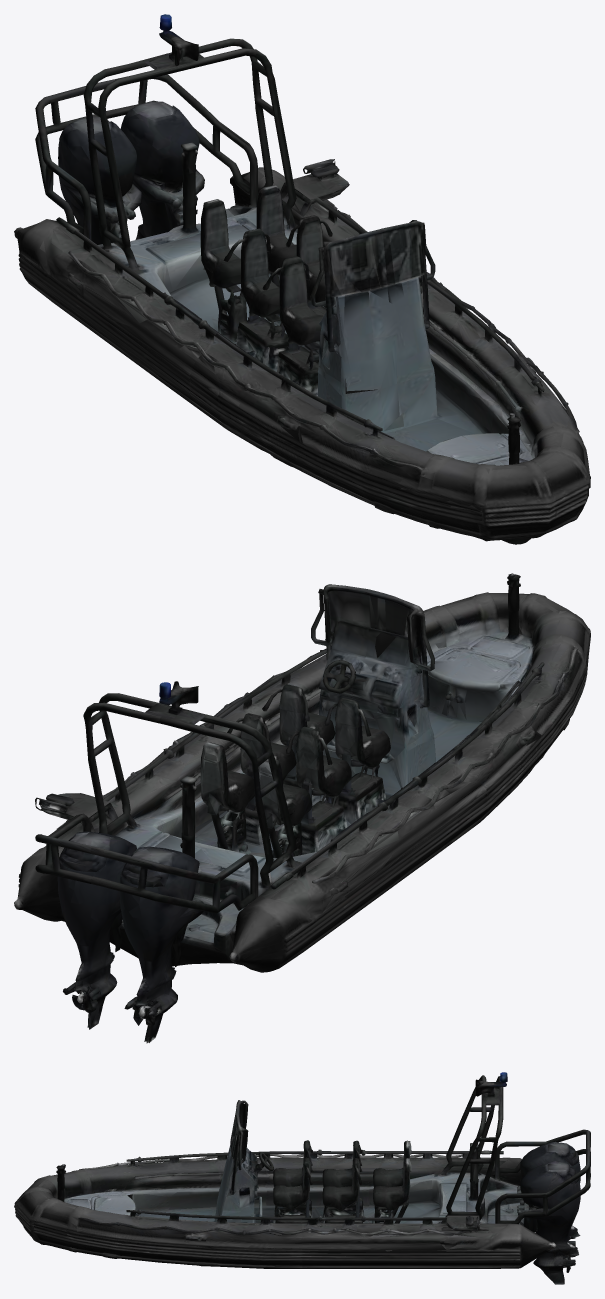
Rendered from PatrolRhibScan.glb.
3 views of the same model, one above another, from view 1: azimuth 30°, elevation 25°; view 2: azimuth 150°, elevation 25°; view 3: azimuth 270°, elevation 25° (orthographic). The views are drawn at different scales.
Visible parts, largest first — view 1: Patrol-Rhib-Scan_01, Patrol-Rhib-Scan_00, Patrol-Rhib-Scan_10, Patrol-Rhib-Scan_11; view 2: Patrol-Rhib-Scan_01, Patrol-Rhib-Scan_00, Patrol-Rhib-Scan_11, Patrol-Rhib-Scan_10; view 3: Patrol-Rhib-Scan_11, Patrol-Rhib-Scan_10, Patrol-Rhib-Scan_01, Patrol-Rhib-Scan_00.
Boxes of the visible parts, x1,y1,x2,y2 form: Patrol-Rhib-Scan_01: (14,14,309,407); Patrol-Rhib-Scan_00: (189,229,555,544); Patrol-Rhib-Scan_10: (381,220,590,532); Patrol-Rhib-Scan_11: (106,38,446,353); Patrol-Rhib-Scan_01: (90,682,458,1043); Patrol-Rhib-Scan_00: (328,573,590,843); Patrol-Rhib-Scan_11: (14,681,309,1029); Patrol-Rhib-Scan_10: (202,584,528,805); Patrol-Rhib-Scan_11: (302,1085,590,1284); Patrol-Rhib-Scan_10: (16,1114,302,1268); Patrol-Rhib-Scan_01: (302,1072,590,1246); Patrol-Rhib-Scan_00: (14,1100,302,1227).
Size of the model in its own units: 10.92 by 11.57 by 29.97.
1 material, 1 textured.
